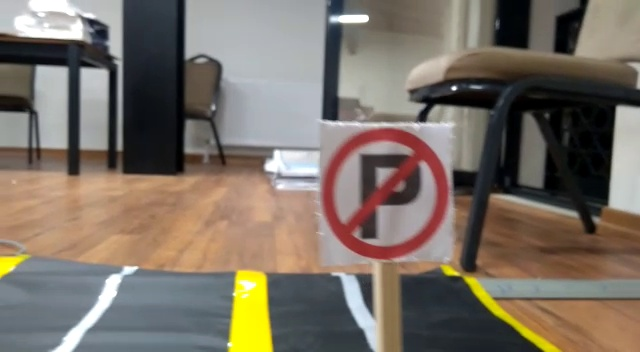park_yapilmaz: (318, 117, 443, 263)
